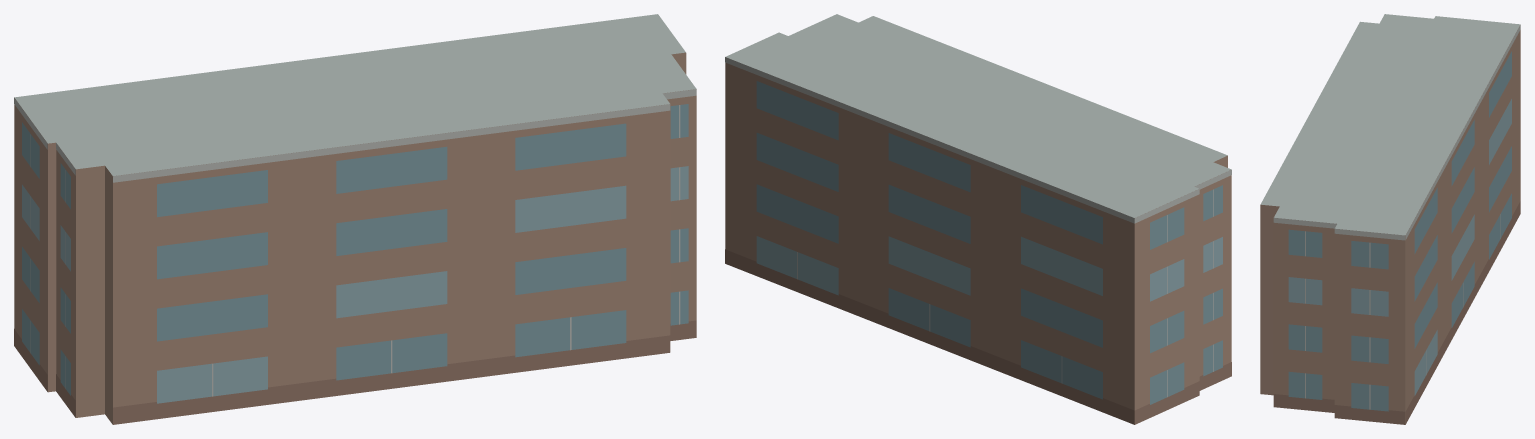
The model's file is survey-upis-32987580.glb.
The picture shows the model from 3 angles, left to right: view 1: azimuth 30°, elevation 25°; view 2: azimuth 150°, elevation 25°; view 3: azimuth 270°, elevation 25°; orthographic projection. The views are drawn at different scales.
Parts seen in each view (by area): view 1: survey-upis-32987580.tmp; view 2: survey-upis-32987580.tmp; view 3: survey-upis-32987580.tmp.
Part boxes in pixels (x1,y1,x2,y2): survey-upis-32987580.tmp: [14, 14, 696, 424]; survey-upis-32987580.tmp: [725, 14, 1231, 424]; survey-upis-32987580.tmp: [1260, 14, 1520, 424].
Bounding box in the file's own units: 22.95 × 9.15 × 11.4.
